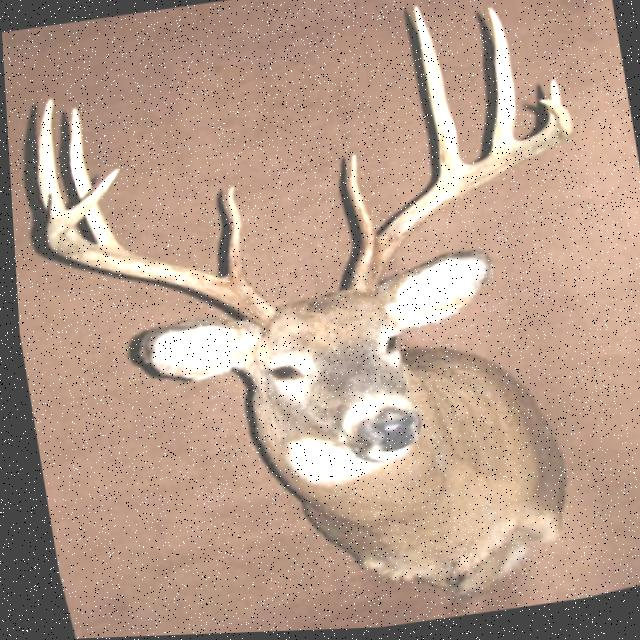E1: (43, 191, 63, 221)
L-G1: (342, 154, 373, 248)
L-G2: (410, 6, 463, 179)
L-G3: (339, 101, 573, 299), (486, 9, 514, 153)
R-F: (42, 167, 274, 331)
R-G1: (222, 185, 241, 284)
